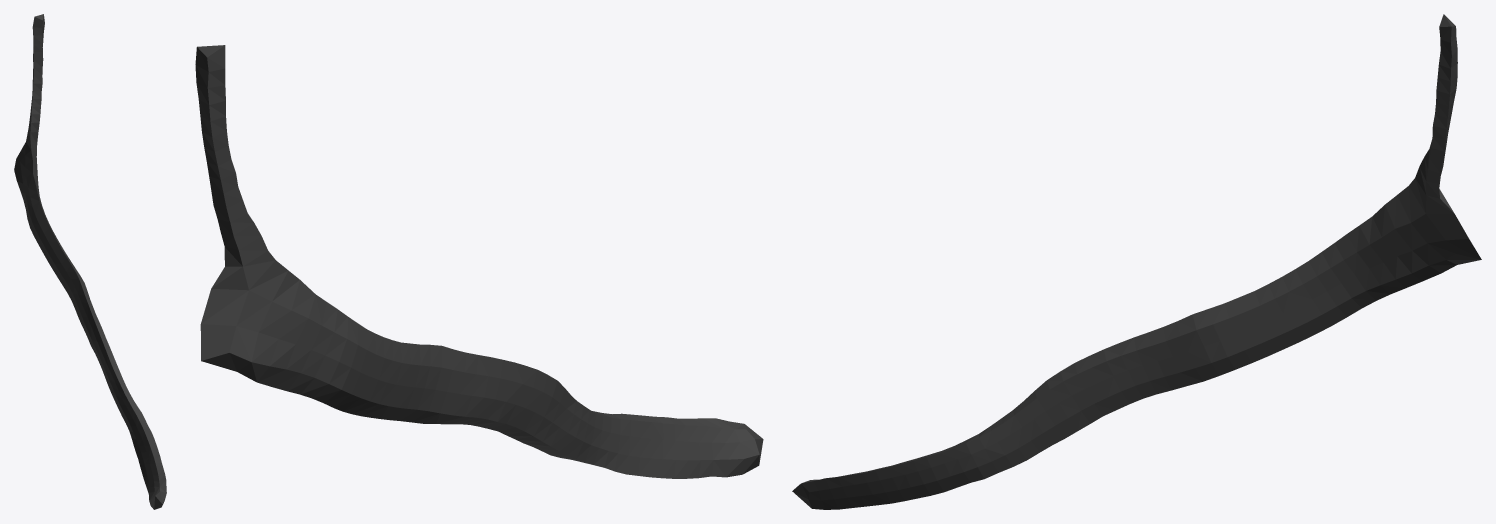
The model's file is L_stylohyoid.glb.
3 renders of one model, left to right at view 1: azimuth 30°, elevation 25°; view 2: azimuth 150°, elevation 25°; view 3: azimuth 270°, elevation 25°, orthographic. The views are drawn at different scales.
Visible parts, largest first — view 1: L_stylohyoid; view 2: L_stylohyoid; view 3: L_stylohyoid.
Part boxes in pixels (<box>): L_stylohyoid: <box>14,14,166,509</box>; L_stylohyoid: <box>195,45,763,478</box>; L_stylohyoid: <box>792,14,1481,509</box>.
Size of the model in its own units: 0.4174 by 1.5 by 1.71.
1 material, 1 textured.
